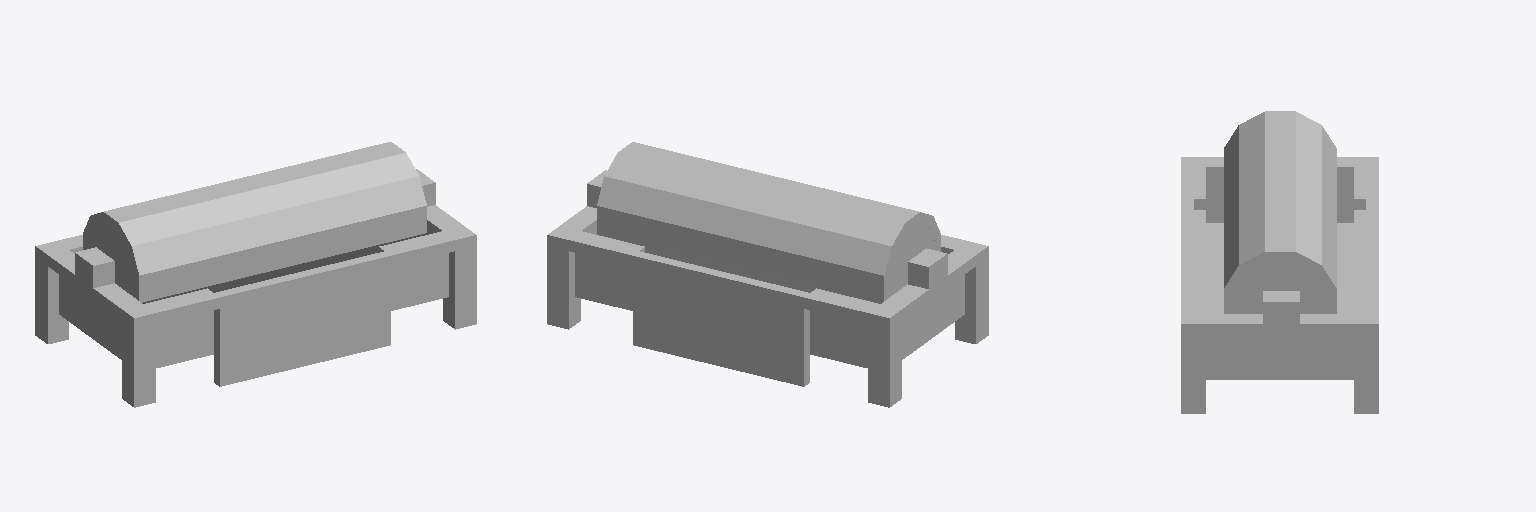
Rendered from magnetic_separator_full.obj.
3 renders of one model, left to right at view 1: azimuth 30°, elevation 25°; view 2: azimuth 150°, elevation 25°; view 3: azimuth 270°, elevation 25°, orthographic.
Parts seen in each view (by area): view 1: cube, tube, circle; view 2: cube, tube, circle; view 3: cube, tube, circle.
Part boxes in pixels (left/top/right/bottom): cube: left=35, top=169, right=476, bottom=407; tube: left=83, top=142, right=426, bottom=303; circle: left=89, top=224, right=132, bottom=295; cube: left=547, top=170, right=988, bottom=407; tube: left=597, top=142, right=940, bottom=303; circle: left=890, top=224, right=934, bottom=295; cube: left=1181, top=157, right=1378, bottom=413; tube: left=1224, top=111, right=1336, bottom=313; circle: left=1231, top=259, right=1328, bottom=313.
Size of the model in its own units: 4 by 1.65 by 2.